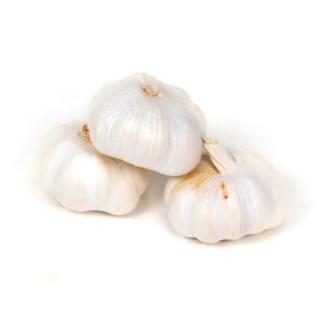Bawang Putih: (87, 72, 208, 178), (166, 139, 288, 244), (36, 119, 150, 216)
